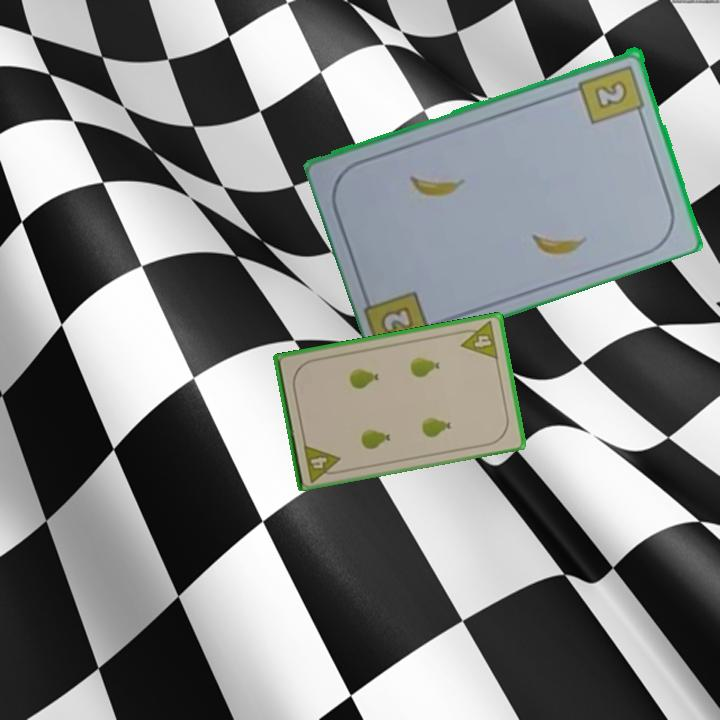2b: (576, 61, 648, 127), (377, 302, 417, 337)
4p: (455, 318, 501, 362), (300, 440, 345, 484)
